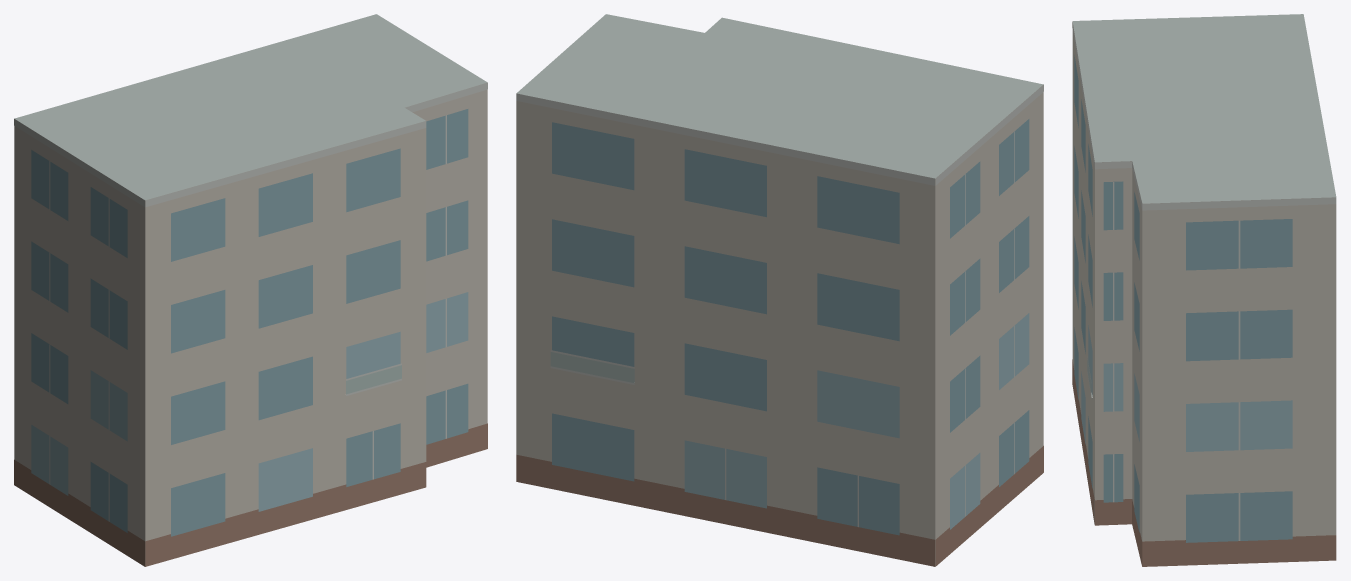
Rendered from survey-upis-32662917.glb.
3 renders of one model, left to right at view 1: azimuth 30°, elevation 25°; view 2: azimuth 150°, elevation 25°; view 3: azimuth 270°, elevation 25°, orthographic. The views are drawn at different scales.
Parts seen in each view (by area): view 1: survey-upis-32662917.tmp; view 2: survey-upis-32662917.tmp; view 3: survey-upis-32662917.tmp.
Part boxes in pixels (left/top/right/bottom): survey-upis-32662917.tmp: left=14, top=14, right=487, bottom=566; survey-upis-32662917.tmp: left=516, top=14, right=1043, bottom=566; survey-upis-32662917.tmp: left=1072, top=14, right=1336, bottom=566.
Bounding box in the file's own units: 14.35 × 12.8 × 8.44.
